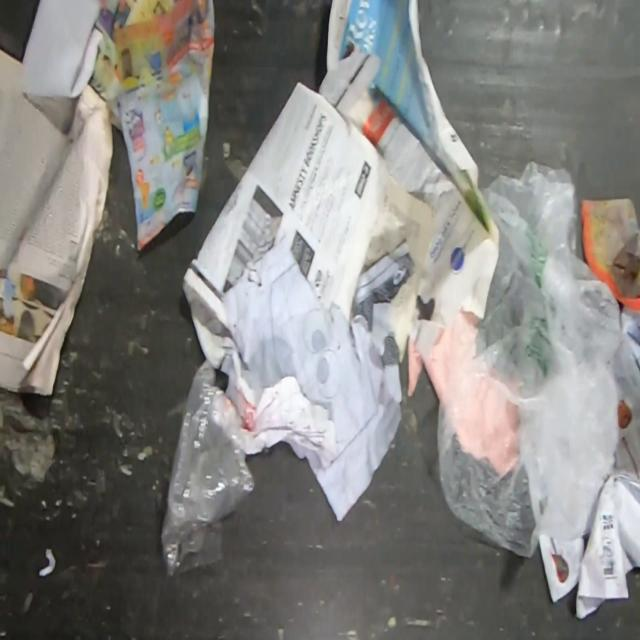soft_plastic: (434, 157, 640, 559), (158, 357, 255, 580)
